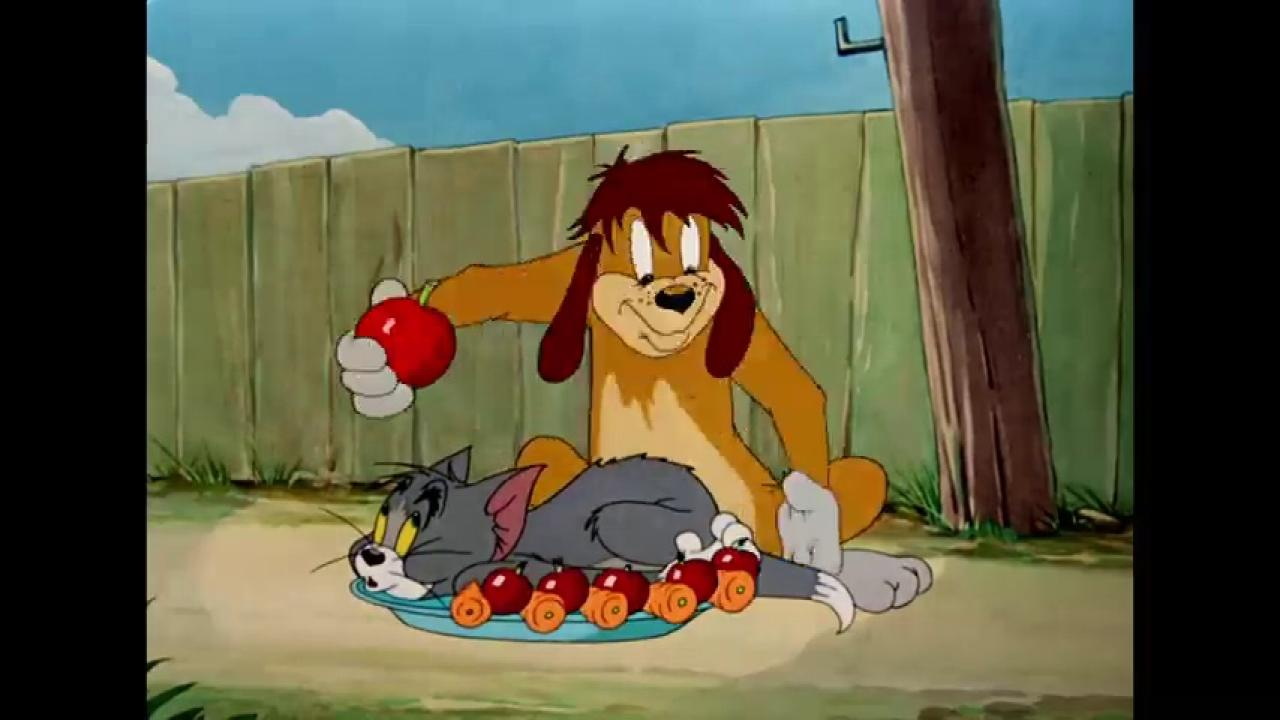Tom: (346, 441, 857, 637)
